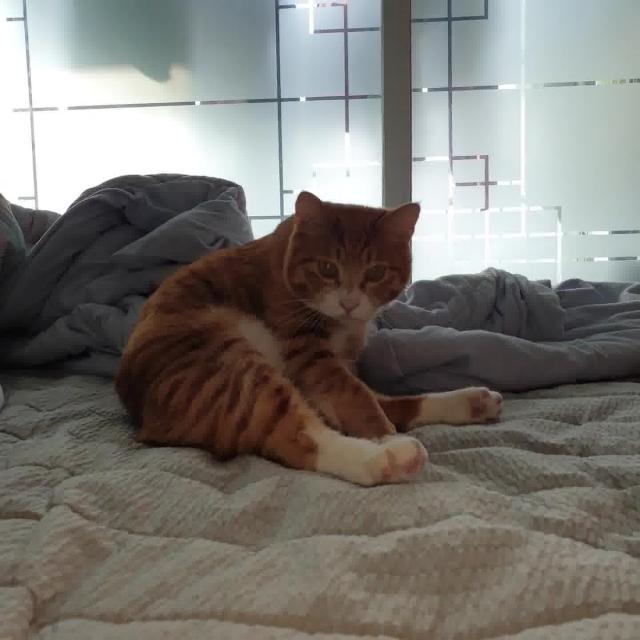cat: (98, 180, 511, 497)
